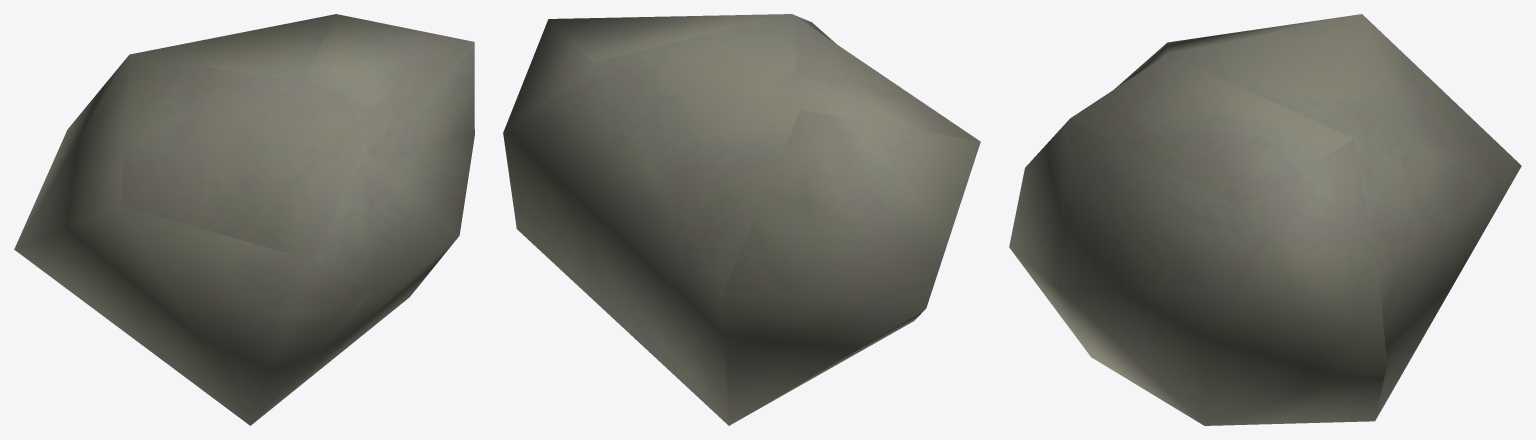
File: SM_Rock.fbx
3 renders of one model, left to right at view 1: azimuth 30°, elevation 25°; view 2: azimuth 150°, elevation 25°; view 3: azimuth 270°, elevation 25°, orthographic. The views are drawn at different scales.
Visible parts, largest first — view 1: Pierre; view 2: Pierre; view 3: Pierre.
Boxes of the visible parts, <box> form: Pierre: <box>14,14,474,425</box>; Pierre: <box>503,14,980,425</box>; Pierre: <box>1009,14,1521,425</box>.
Bounding box in the file's own units: 0.6125 × 0.4621 × 0.5607.
1 material, 1 textured.
